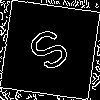S: (25, 25, 79, 82)
